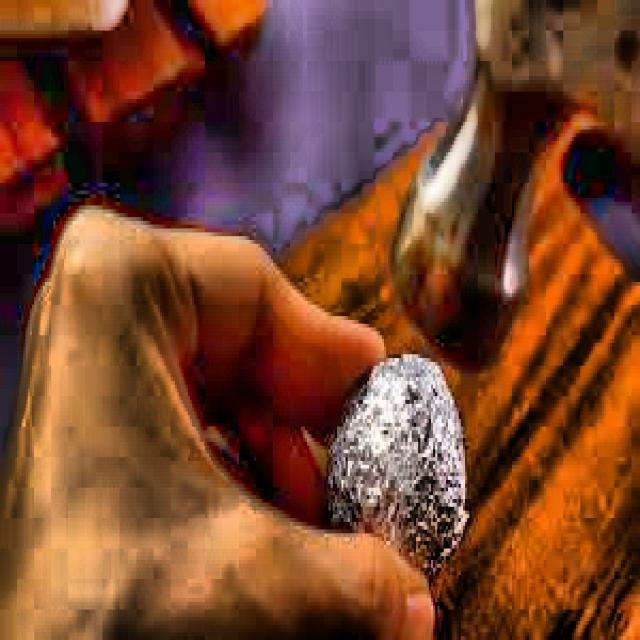Foil: (306, 316, 490, 607)
